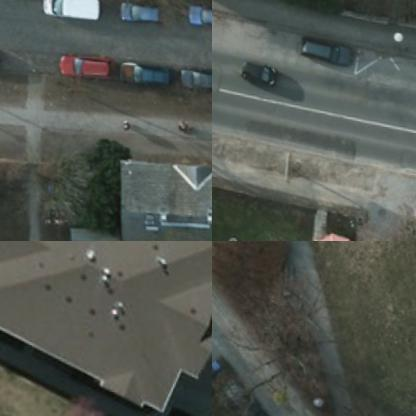car: (296, 31, 357, 66), (57, 49, 110, 82), (233, 56, 278, 92), (224, 382, 271, 415), (117, 56, 168, 86), (116, 0, 162, 27), (178, 58, 211, 92), (180, 0, 211, 27)
van: (41, 0, 101, 21)
